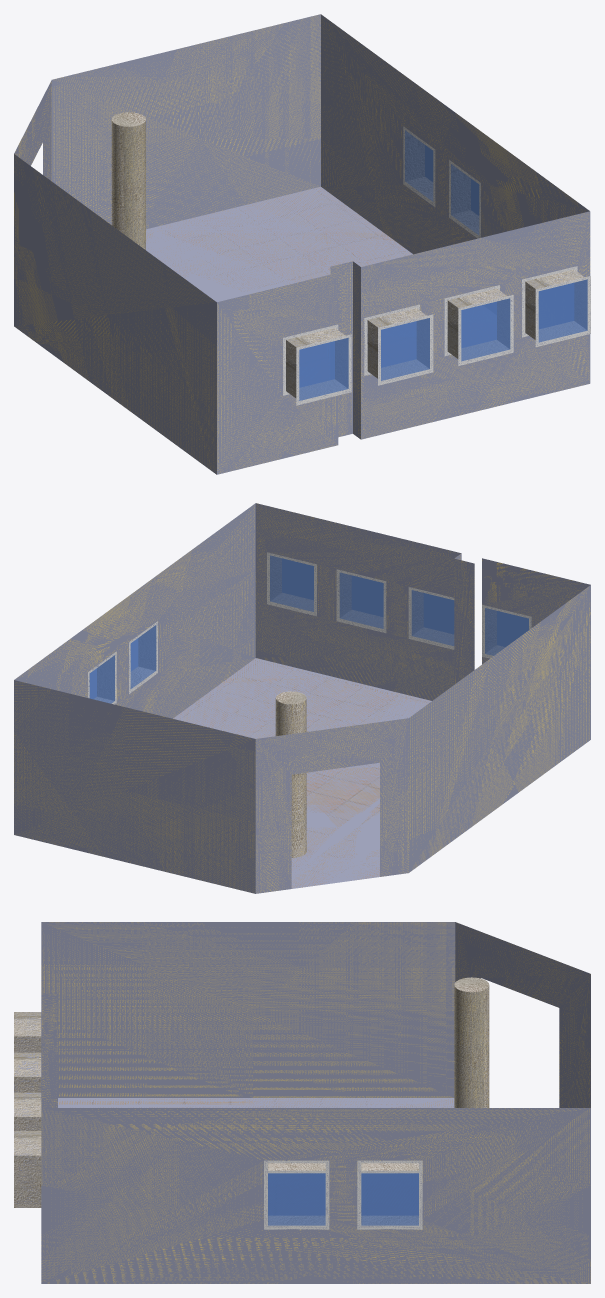
Rendered from LAB059.obj.
3 views of the same model, one above another, from view 1: azimuth 30°, elevation 25°; view 2: azimuth 150°, elevation 25°; view 3: azimuth 270°, elevation 25° (orthographic). The views are drawn at different scales.
Visible parts, largest first — view 1: Mesh28 LAB059 Model, Mesh17 Group5 LAB059 Model, Mesh9 Group3 LAB059 Model, Mesh13 Group4 LAB059 Model, Mesh21 Group6 LAB059 Model, Mesh25 Group7 LAB059 Model, Mesh1 Group1 LAB059 Model, Mesh5 Group2 LAB059 Model; view 2: Mesh28 LAB059 Model, Mesh9 Group3 LAB059 Model, Mesh25 Group7 LAB059 Model, Mesh21 Group6 LAB059 Model, Mesh17 Group5 LAB059 Model, Mesh13 Group4 LAB059 Model, Mesh5 Group2 LAB059 Model, Mesh1 Group1 LAB059 Model; view 3: Mesh28 LAB059 Model, Mesh25 Group7 LAB059 Model, Mesh1 Group1 LAB059 Model, Mesh5 Group2 LAB059 Model, Mesh21 Group6 LAB059 Model, Mesh13 Group4 LAB059 Model, Mesh17 Group5 LAB059 Model, Mesh9 Group3 LAB059 Model.
Boxes of the visible parts, bbox=[...] form: Mesh28 LAB059 Model: bbox=[14, 14, 590, 474]; Mesh17 Group5 LAB059 Model: bbox=[364, 304, 433, 385]; Mesh9 Group3 LAB059 Model: bbox=[444, 285, 513, 365]; Mesh13 Group4 LAB059 Model: bbox=[283, 324, 351, 405]; Mesh21 Group6 LAB059 Model: bbox=[522, 266, 590, 346]; Mesh25 Group7 LAB059 Model: bbox=[111, 112, 145, 249]; Mesh1 Group1 LAB059 Model: bbox=[403, 126, 435, 206]; Mesh5 Group2 LAB059 Model: bbox=[449, 160, 480, 238]; Mesh28 LAB059 Model: bbox=[14, 503, 590, 893]; Mesh9 Group3 LAB059 Model: bbox=[336, 569, 386, 633]; Mesh25 Group7 LAB059 Model: bbox=[275, 691, 306, 857]; Mesh21 Group6 LAB059 Model: bbox=[267, 552, 316, 616]; Mesh17 Group5 LAB059 Model: bbox=[408, 587, 454, 649]; Mesh13 Group4 LAB059 Model: bbox=[482, 604, 531, 658]; Mesh5 Group2 LAB059 Model: bbox=[129, 621, 157, 693]; Mesh1 Group1 LAB059 Model: bbox=[88, 651, 116, 704]; Mesh28 LAB059 Model: bbox=[41, 922, 590, 1283]; Mesh25 Group7 LAB059 Model: bbox=[454, 977, 489, 1107]; Mesh1 Group1 LAB059 Model: bbox=[357, 1160, 422, 1229]; Mesh5 Group2 LAB059 Model: bbox=[264, 1160, 329, 1229]; Mesh21 Group6 LAB059 Model: bbox=[14, 1131, 41, 1207]; Mesh13 Group4 LAB059 Model: bbox=[14, 1012, 41, 1052]; Mesh17 Group5 LAB059 Model: bbox=[14, 1052, 41, 1092]; Mesh9 Group3 LAB059 Model: bbox=[14, 1092, 41, 1130].
Bounding box in the file's own units: 7.16 × 3 × 8.92.
6 materials, 2 textured.
